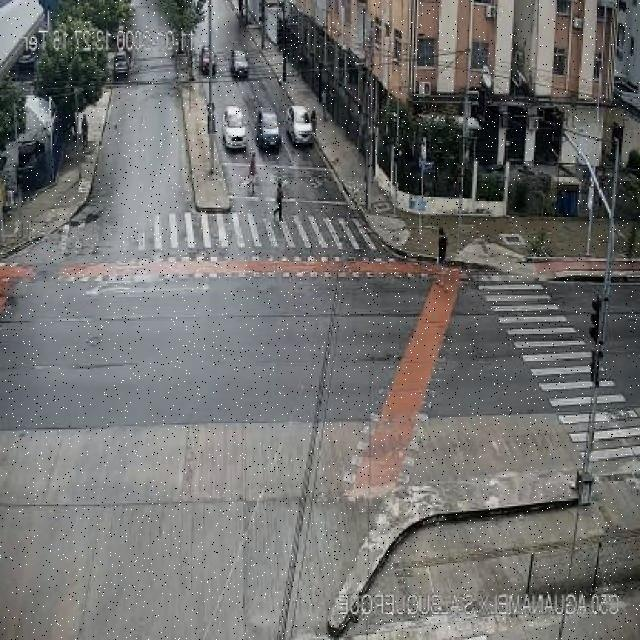Car: (15, 141, 48, 188), (255, 107, 282, 150), (286, 105, 314, 146), (222, 106, 247, 150), (230, 49, 250, 79), (199, 46, 216, 76), (113, 55, 130, 80)
